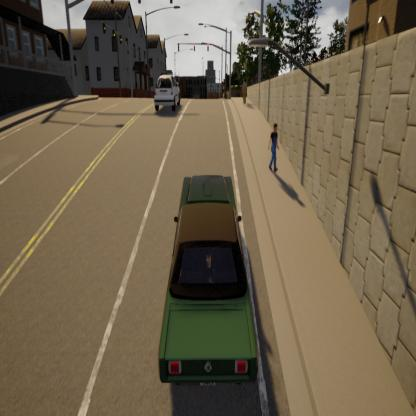Cars: (155, 150, 279, 416), (144, 52, 192, 140)
Pedestrian: (260, 108, 296, 190)
